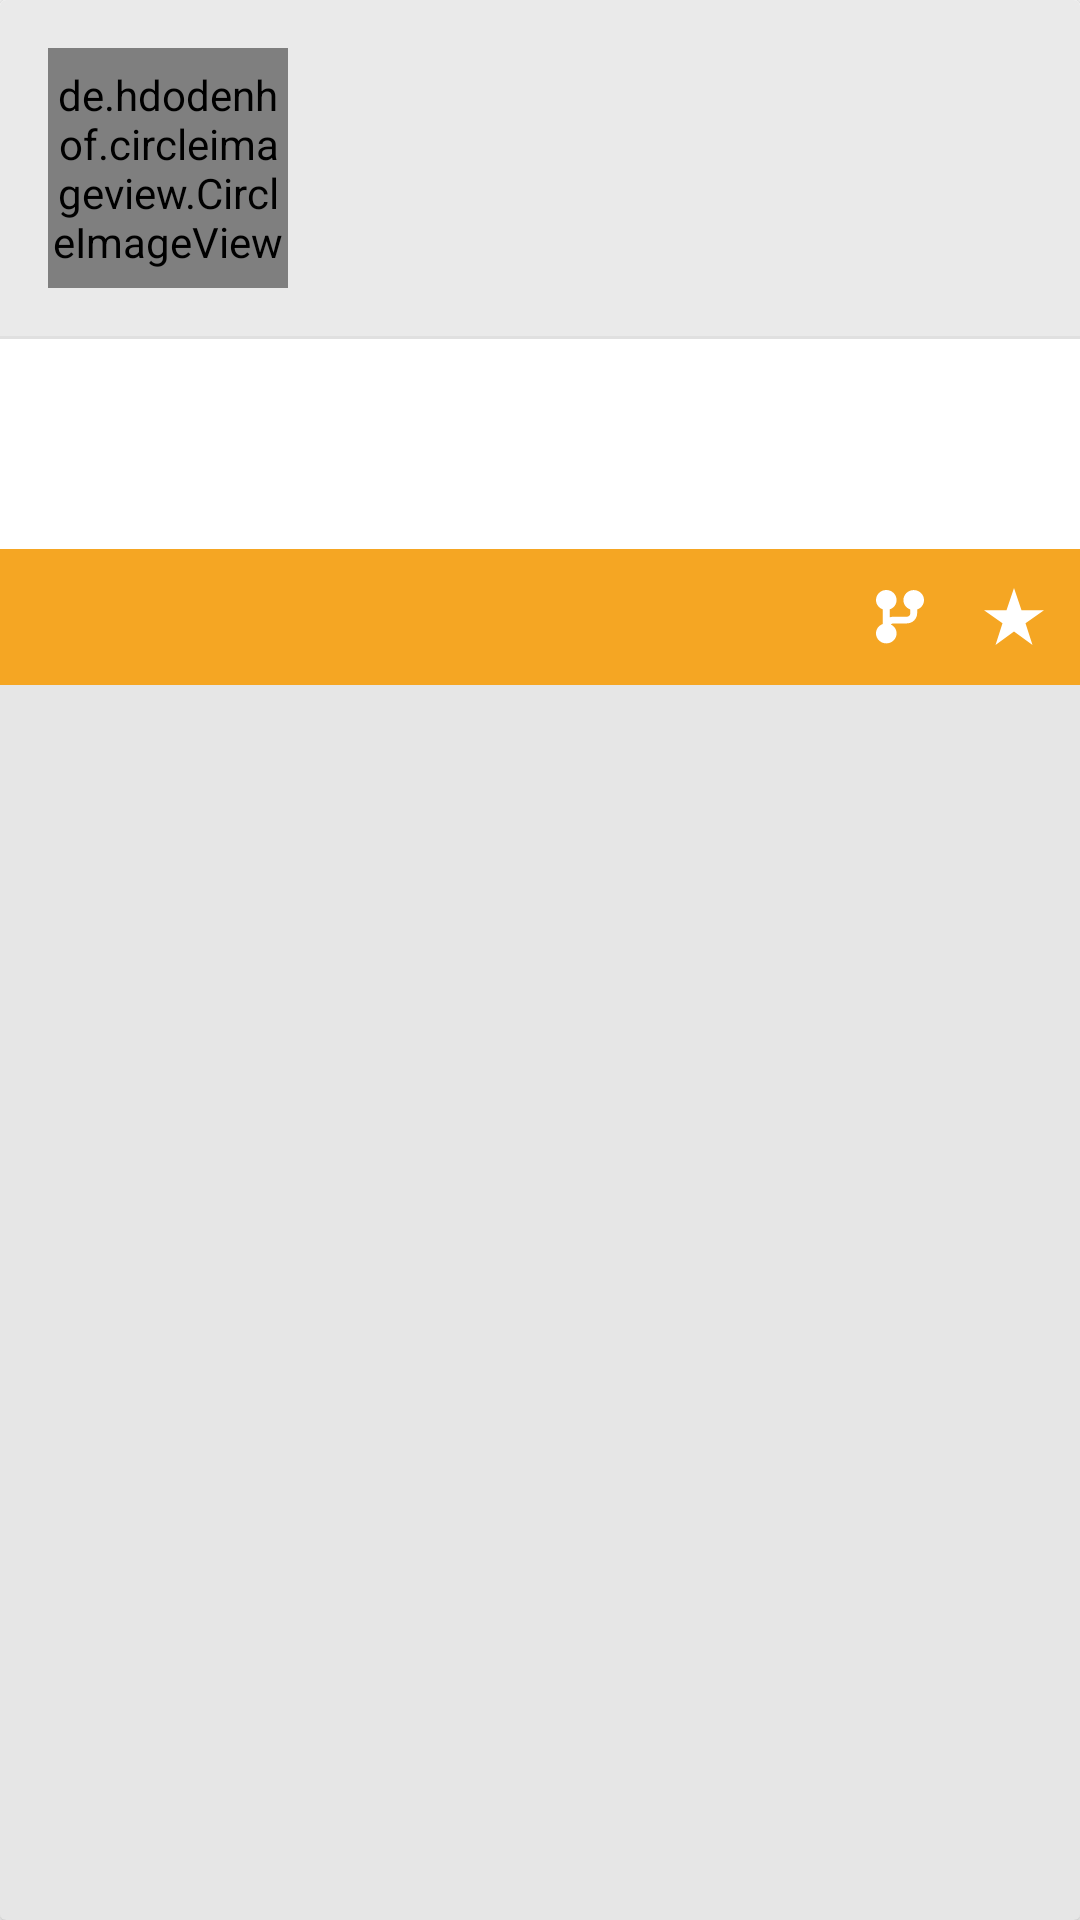

Icon click points for this 1080*1920 phone screenshot, format point (x, y):
fork: point (900, 617)
star: point (1014, 616)
